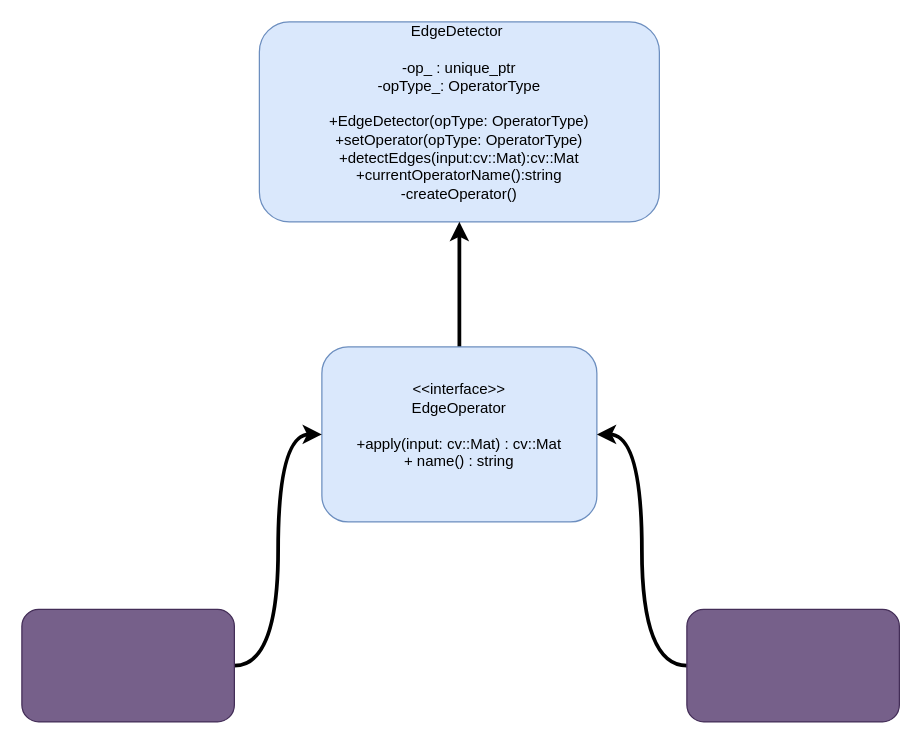
The diagram is 921 pixels wide and 744 high, and some of its shapes have lost their labels. Here are the shapes that lost their labels. From the top down, the box of each, then its label:
(21, 608, 234, 722): SobelOperator + apply(input: cv::Mat) : cv::Mat +name() : string
(686, 608, 899, 722): PrewittOperator + apply(input: cv::Mat) : cv::Mat +name() : string
